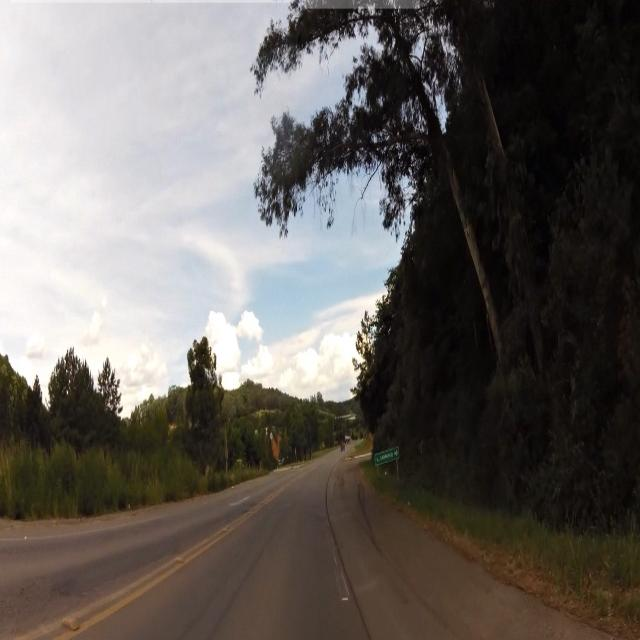I-4: (374, 446, 405, 472)
